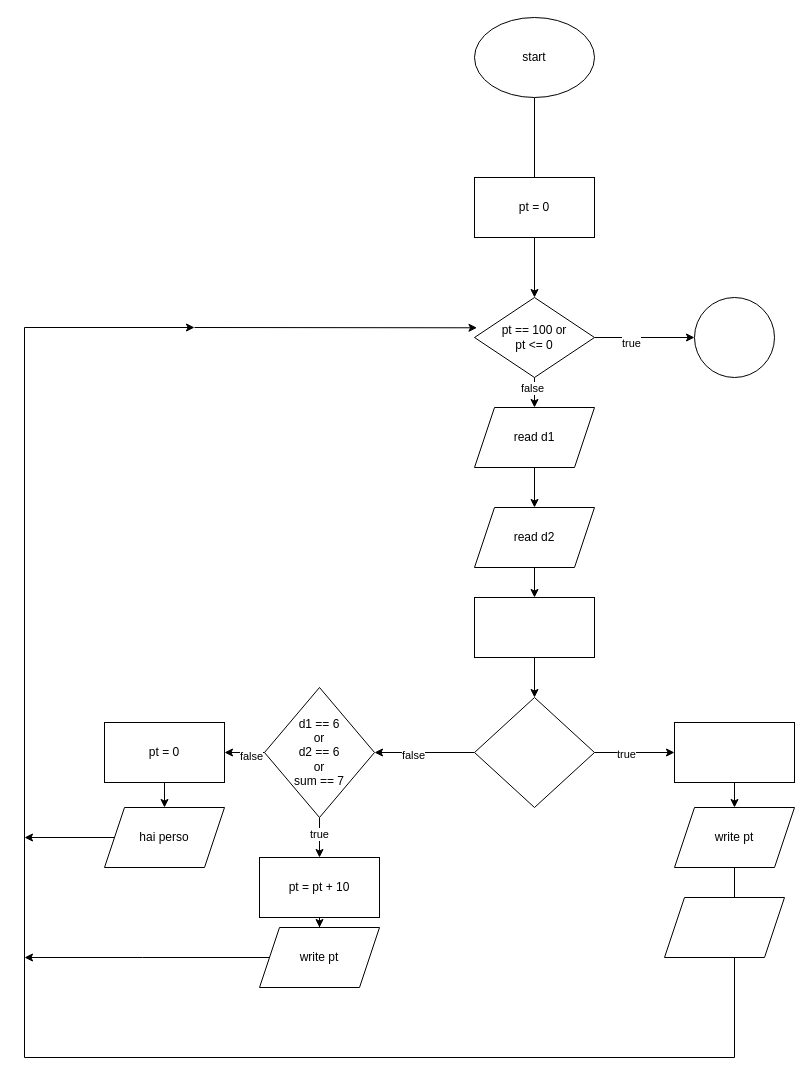
The diagram is 812 pixels wide and 1083 high, and some of its shapes have lost their labels. Here are the shapes that lost their labels. From the top down, the box of each, then its label:
(694, 296, 774, 378): end
(474, 596, 594, 658): sum = d1 + d2
(474, 696, 594, 808): d1 % 2 == 0 and d2 % 2 == 0 and sum > 8
(674, 722, 794, 782): pt = 100
(664, 896, 784, 958): write vittoria
